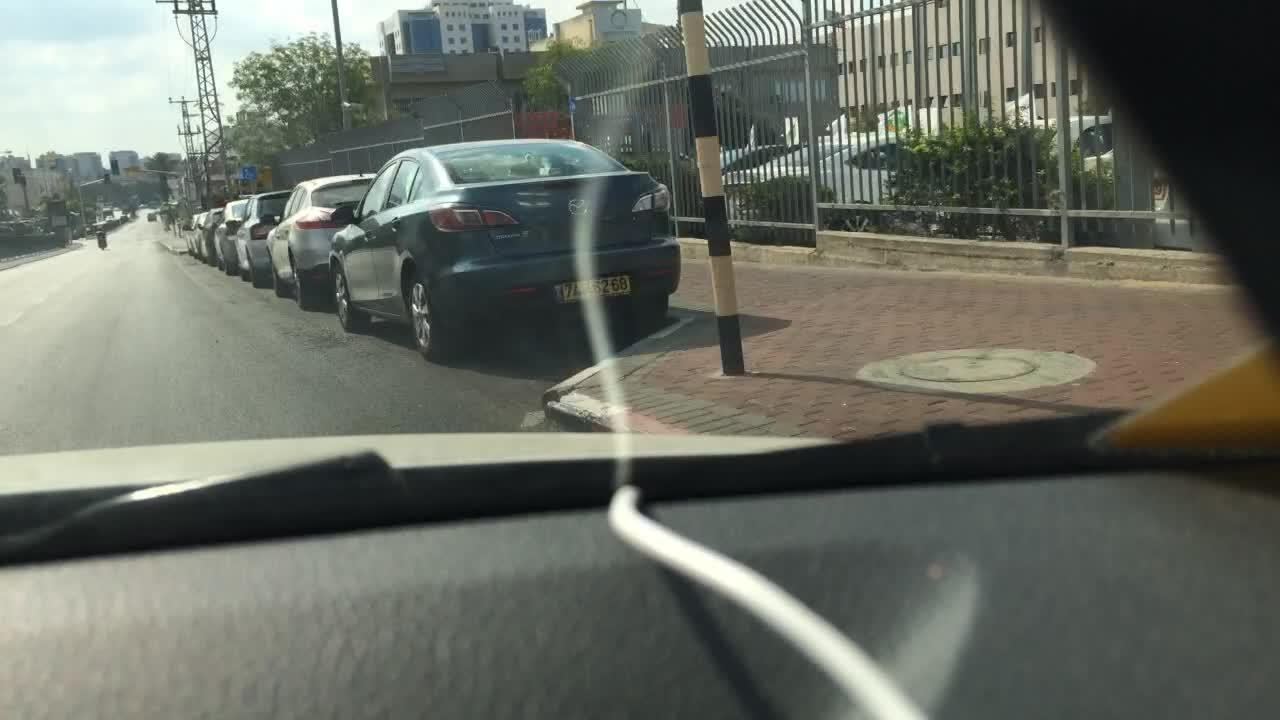Mazda: (567, 196, 589, 218)
